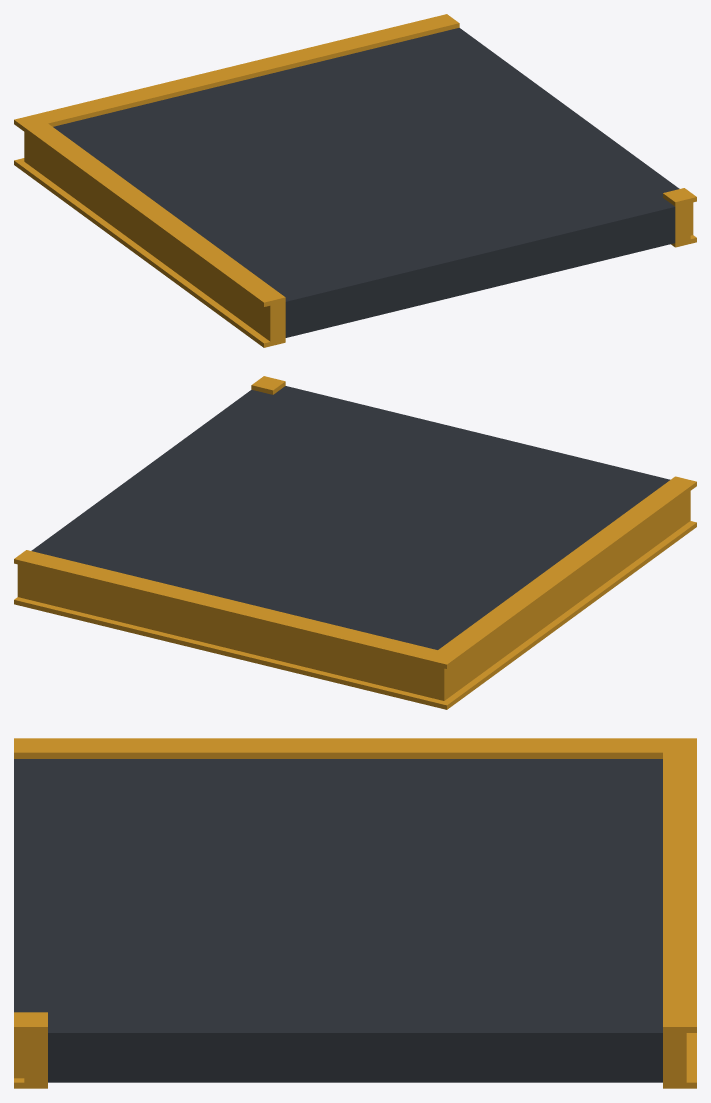
Rendered from Catwalk_2x2_Corner.fbx.
The picture shows the model from 3 angles, top to bottom: view 1: azimuth 30°, elevation 25°; view 2: azimuth 150°, elevation 25°; view 3: azimuth 270°, elevation 25°; orthographic projection. The views are drawn at different scales.
Visible parts, largest first — view 1: Catwalk_2x2_Corner; view 2: Catwalk_2x2_Corner; view 3: Catwalk_2x2_Corner.
Boxes of the visible parts, box(x1,y1,x2,y2) form: Catwalk_2x2_Corner: box(14, 14, 696, 347); Catwalk_2x2_Corner: box(14, 376, 696, 709); Catwalk_2x2_Corner: box(14, 738, 696, 1088).
Bounding box in the file's own units: 200 × 20 × 200.
